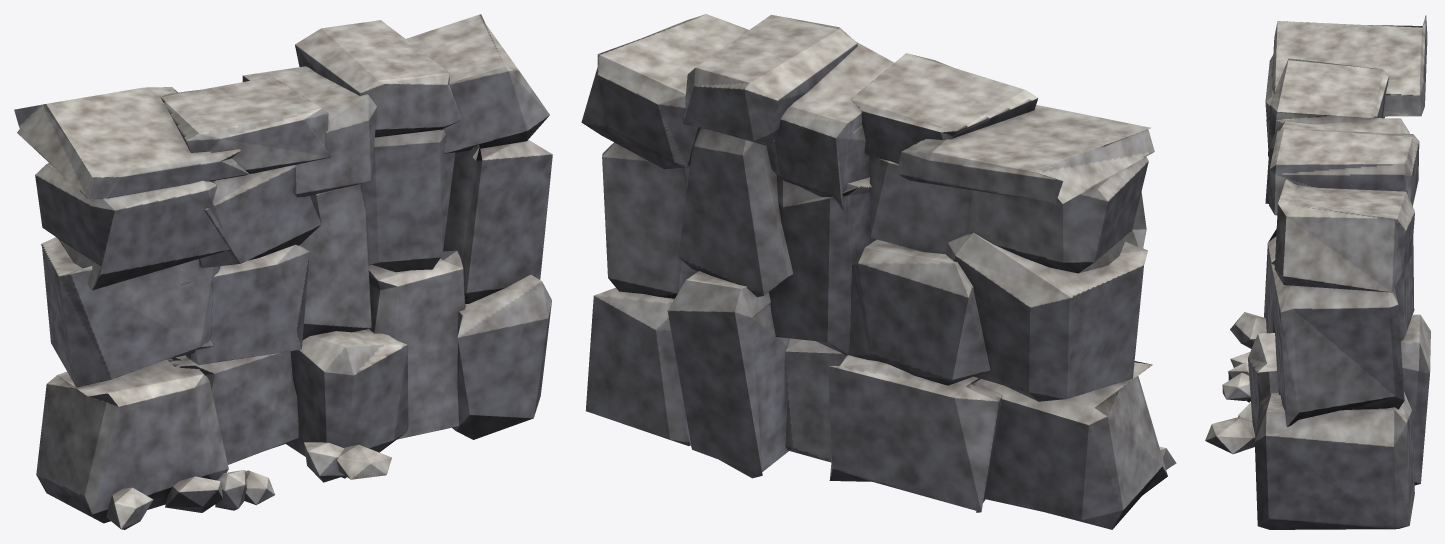
The model's file is Env_CliffGray_2.glb.
The picture shows the model from 3 angles, left to right: view 1: azimuth 30°, elevation 25°; view 2: azimuth 150°, elevation 25°; view 3: azimuth 270°, elevation 25°; orthographic projection. The views are drawn at different scales.
Parts seen in each view (by area): view 1: Env_CliffGray_2.001; view 2: Env_CliffGray_2.001; view 3: Env_CliffGray_2.001.
Part boxes in pixels (left/top/right/bottom): Env_CliffGray_2.001: left=14, top=14, right=552, bottom=529; Env_CliffGray_2.001: left=581, top=14, right=1176, bottom=529; Env_CliffGray_2.001: left=1205, top=15, right=1430, bottom=529.
Bounding box in the file's own units: 12 × 8.95 × 5.24.
1 material, 1 textured.
